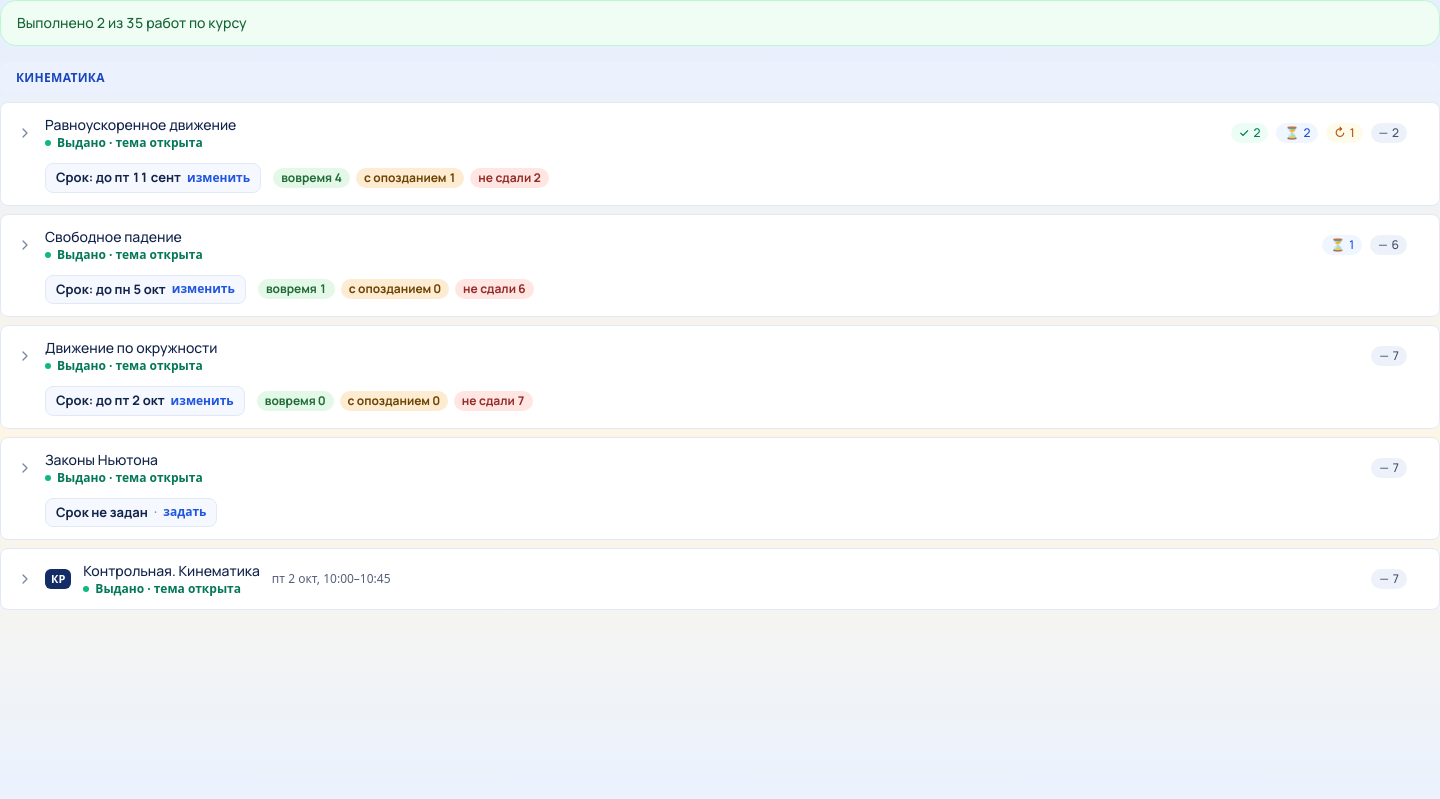
Test: Срок ДЗ в таблице «По темам» (§259) › у контрольной — ни срока, ни сводки, ни колонки «Срок»: у неё окно
Click the text "Контрольная. Кинематика". click: (172, 571)
box: [83, 561, 260, 581]
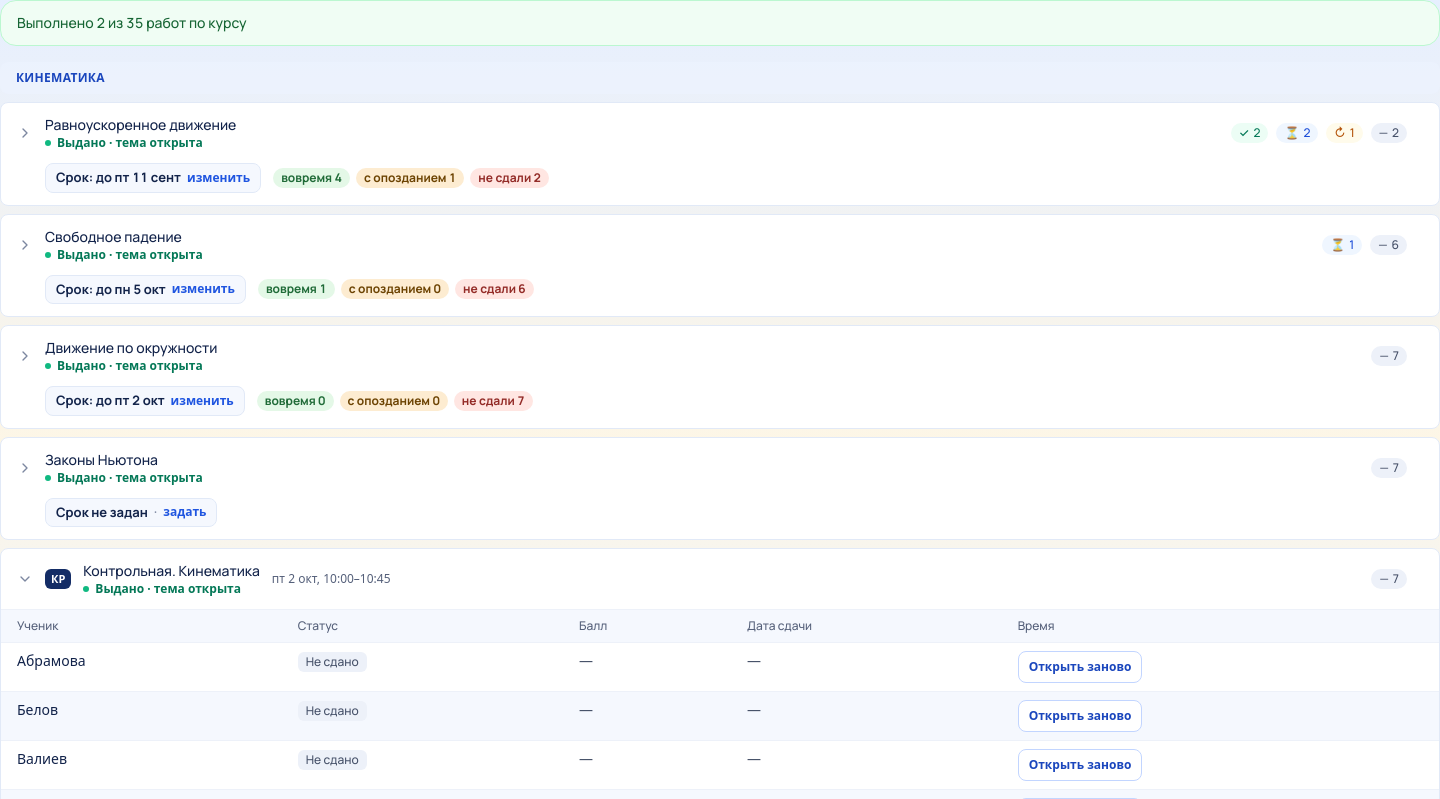
Expected: the column headings read "Ученик", "Статус", "Балл", "Дата сдачи", "Время", in this order, [1, 610, 282, 642]; [282, 610, 563, 642]; [563, 610, 731, 642]; [731, 610, 1002, 642]; [1002, 610, 1439, 642]
